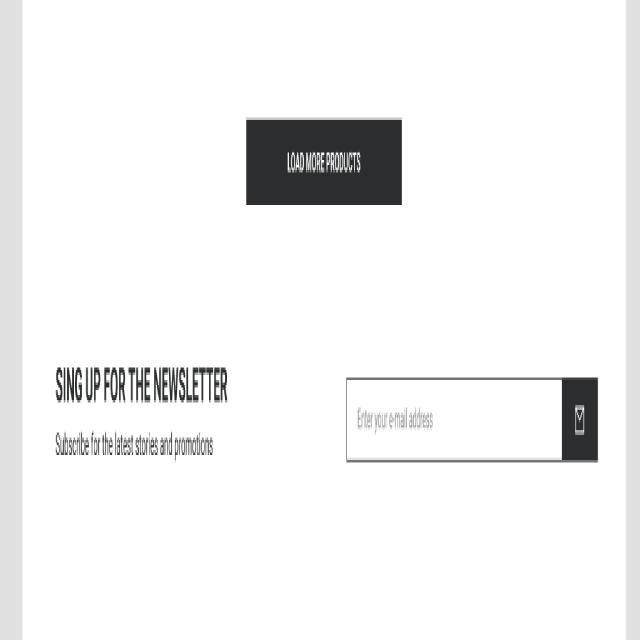EmailSignup: (344, 370, 600, 480)
LoadMoreProductsButton: (246, 116, 402, 207)
